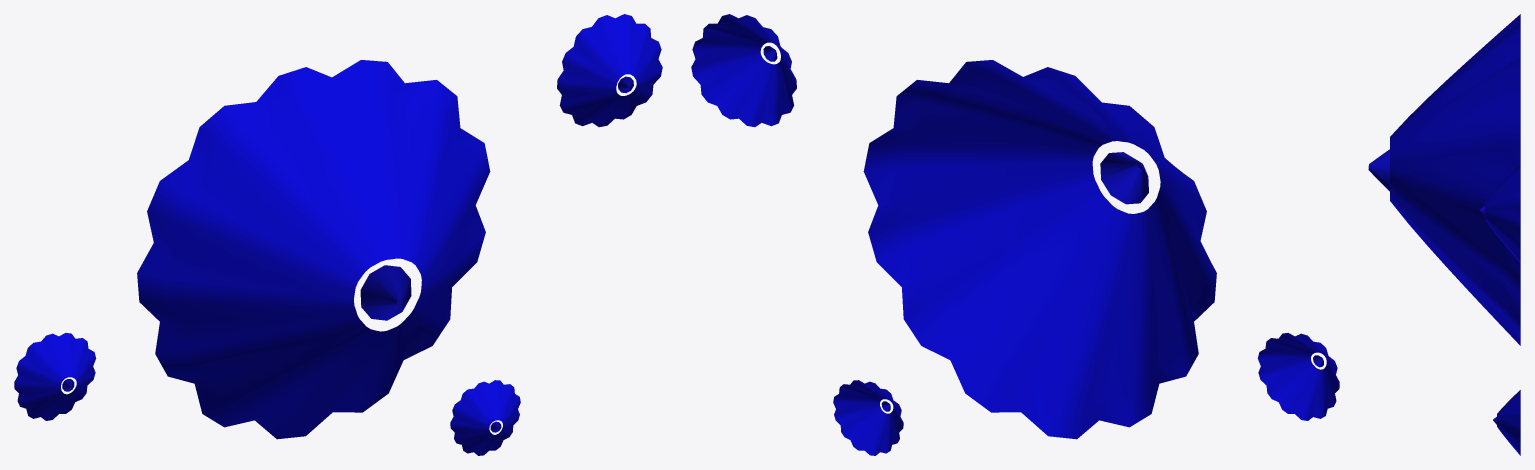
The model's file is shaft_limpet.glb.
3 renders of one model, left to right at view 1: azimuth 30°, elevation 25°; view 2: azimuth 150°, elevation 25°; view 3: azimuth 270°, elevation 25°, orthographic. The views are drawn at different scales.
Visible parts, largest first — view 1: shaft_limpet; view 2: shaft_limpet; view 3: shaft_limpet.
Boxes of the visible parts, <box> form: shaft_limpet: <box>14,14,662,455</box>; shaft_limpet: <box>691,14,1339,455</box>; shaft_limpet: <box>1368,14,1520,455</box>.
Size of what is drawn, in the model's own units: 1.2 by 0.766 by 0.3005.
